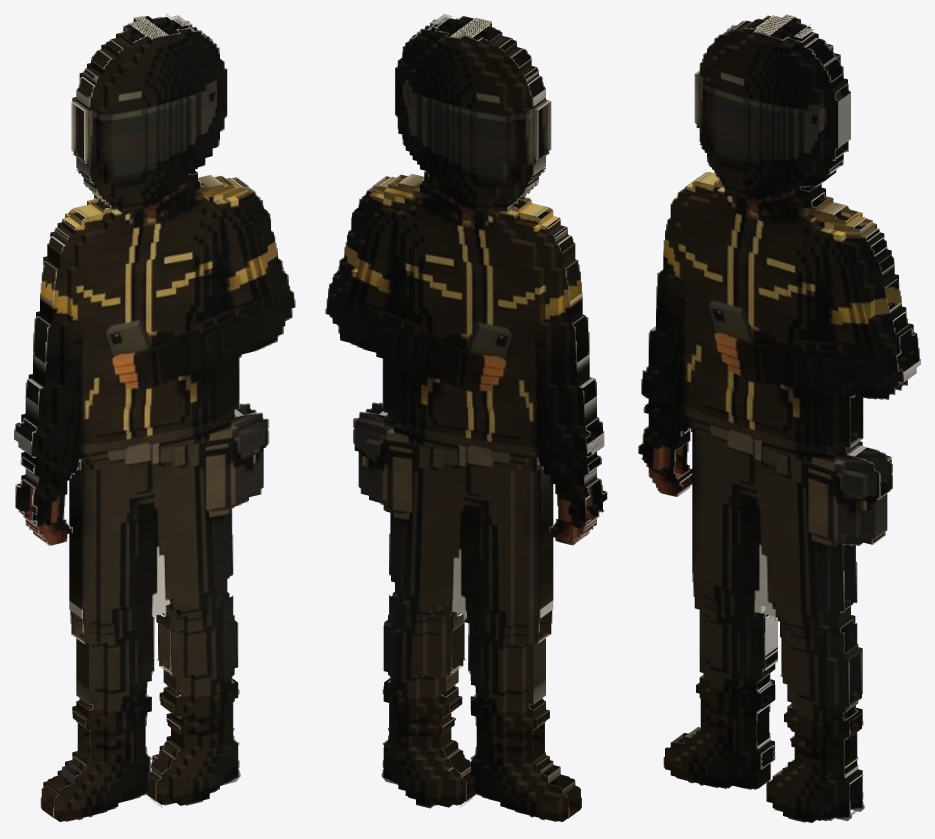
Rendered from char_4.glb.
3 views of the same model, side by side, from view 1: azimuth 30°, elevation 25°; view 2: azimuth 150°, elevation 25°; view 3: azimuth 330°, elevation 25° (orthographic).
Visible parts, largest first — view 1: char_4; view 2: char_4; view 3: char_4.
Part boxes in pixels (box(x1,y1,x2,y2)): char_4: box(14, 14, 295, 821); char_4: box(325, 14, 607, 821); char_4: box(638, 14, 920, 822).
Size of the model in its own units: 36 by 102 by 6.
Materials: 1 (1 with a texture image).
